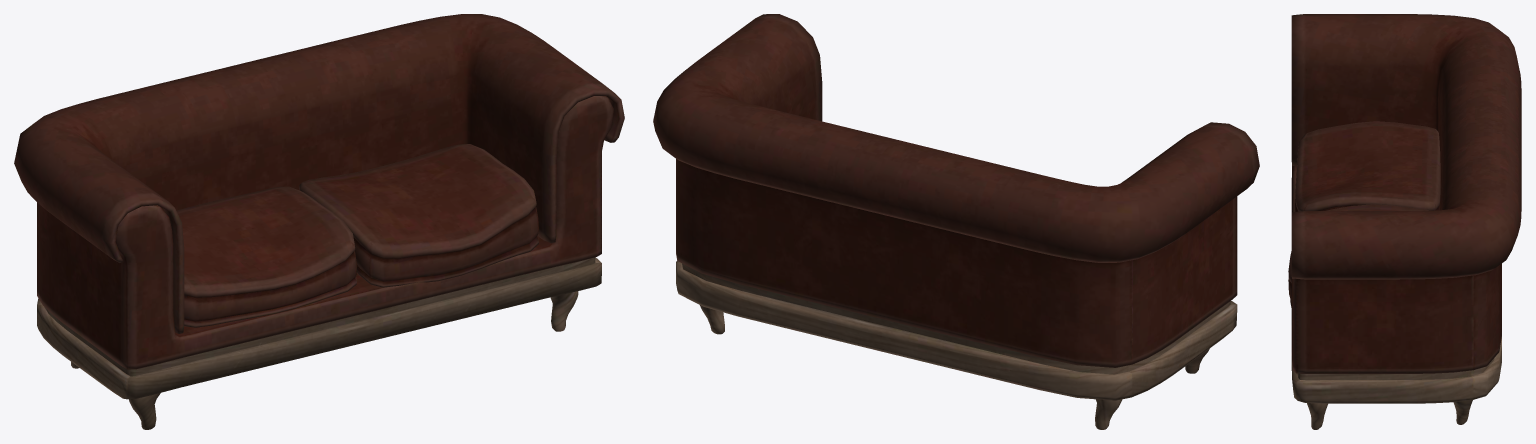
The model's file is big_sofa_2.glb.
3 views of the same model, side by side, from view 1: azimuth 30°, elevation 25°; view 2: azimuth 150°, elevation 25°; view 3: azimuth 270°, elevation 25° (orthographic). The views are drawn at different scales.
Parts seen in each view (by area): view 1: cloth.014, cloth.015, cloth.013; view 2: cloth.014; view 3: cloth.014, cloth.013, cloth.015.
Boxes of the visible parts, x1,y1,x2,y2 form: cloth.014: (14, 14, 624, 429); cloth.015: (299, 144, 538, 287); cloth.013: (176, 186, 357, 327); cloth.014: (653, 14, 1259, 429); cloth.014: (1291, 14, 1521, 429); cloth.013: (1294, 121, 1440, 211); cloth.015: (1288, 204, 1428, 307).
Bounding box in the file's own units: 1.97 × 0.8926 × 0.8534.
1 material, 1 textured.
